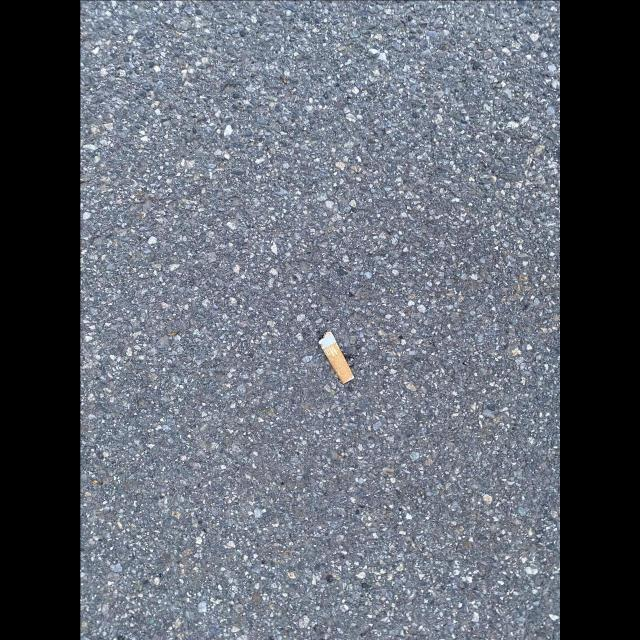cigarette: (317, 330, 354, 384)
